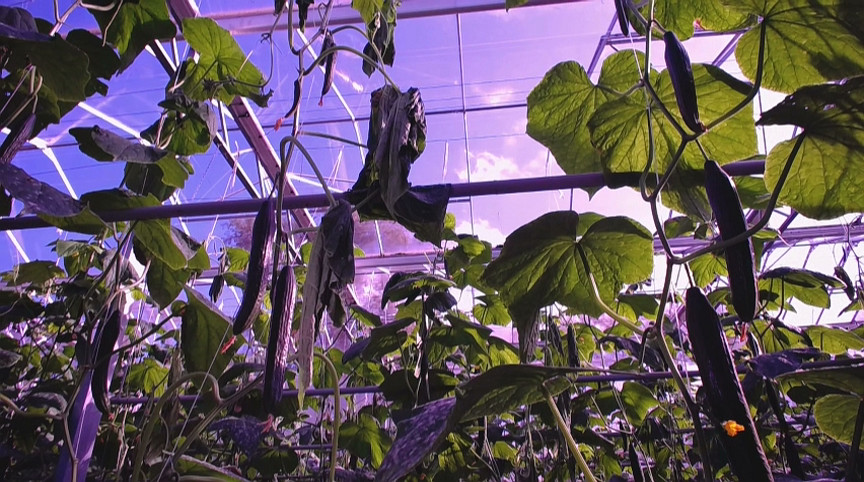cucumber: (683, 287, 775, 482), (698, 160, 760, 325), (234, 200, 279, 335), (262, 265, 299, 413), (661, 30, 705, 133), (94, 308, 121, 417), (1, 113, 40, 165)
